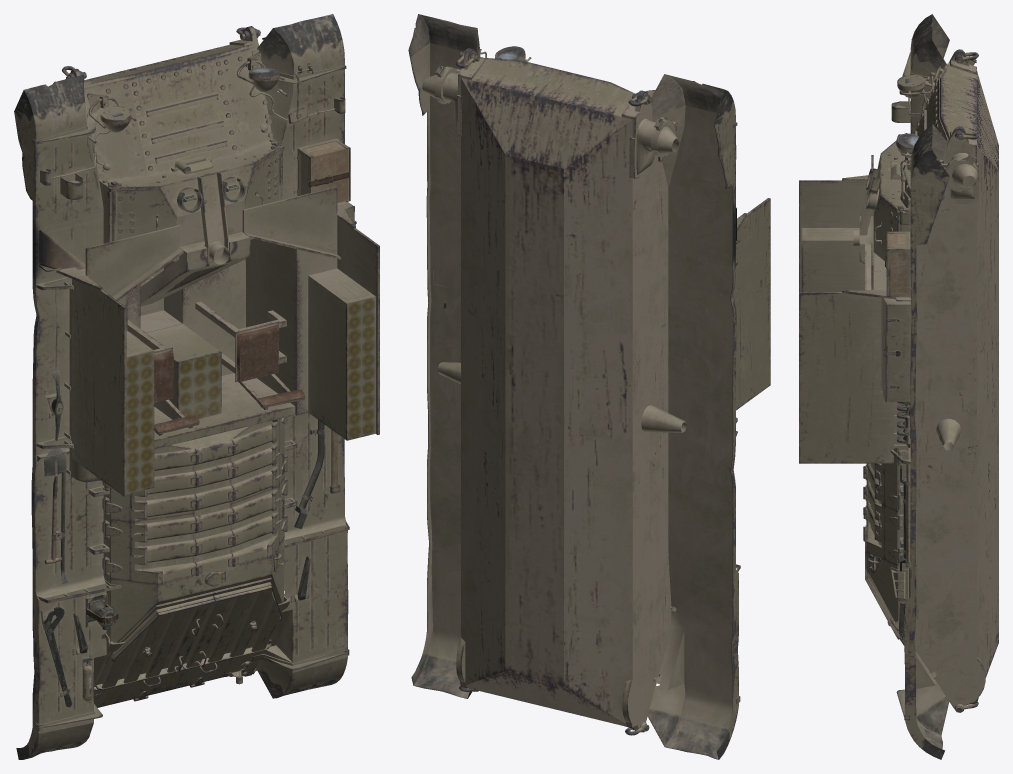
Rendered from Hull.glb.
The picture shows the model from 3 angles, left to right: view 1: azimuth 30°, elevation 25°; view 2: azimuth 150°, elevation 25°; view 3: azimuth 270°, elevation 25°; orthographic projection. The views are drawn at different scales.
Parts seen in each view (by area): view 1: set_0_group_0; view 2: set_0_group_0; view 3: set_0_group_0.
Part boxes in pixels (left/top/right/bottom): set_0_group_0: left=14, top=14, right=379, bottom=759; set_0_group_0: left=408, top=14, right=770, bottom=759; set_0_group_0: left=799, top=14, right=998, bottom=759.
Bounding box in the file's own units: 2.64 × 5.48 × 1.63.
1 material, 1 textured.
